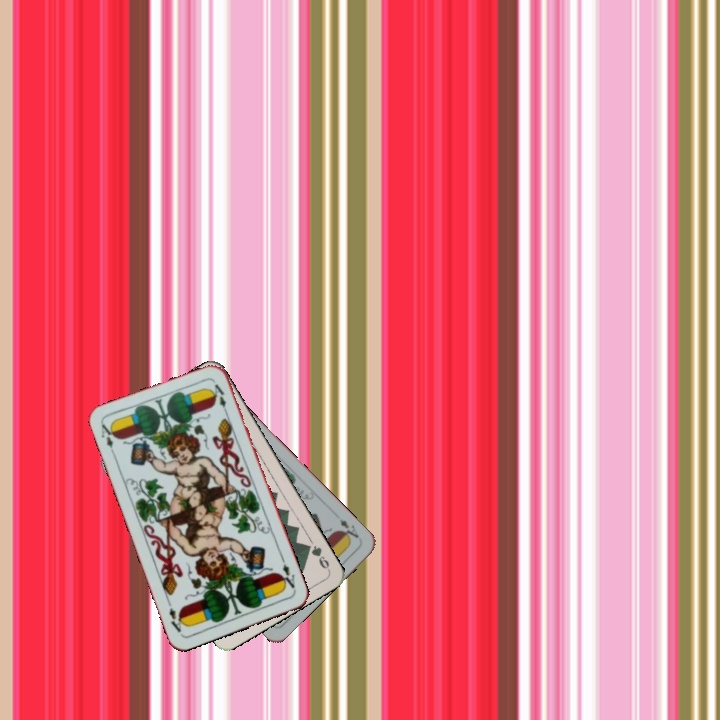EA: (276, 554, 298, 593), (97, 420, 119, 459), (335, 515, 361, 544)
G9: (301, 540, 332, 573)
